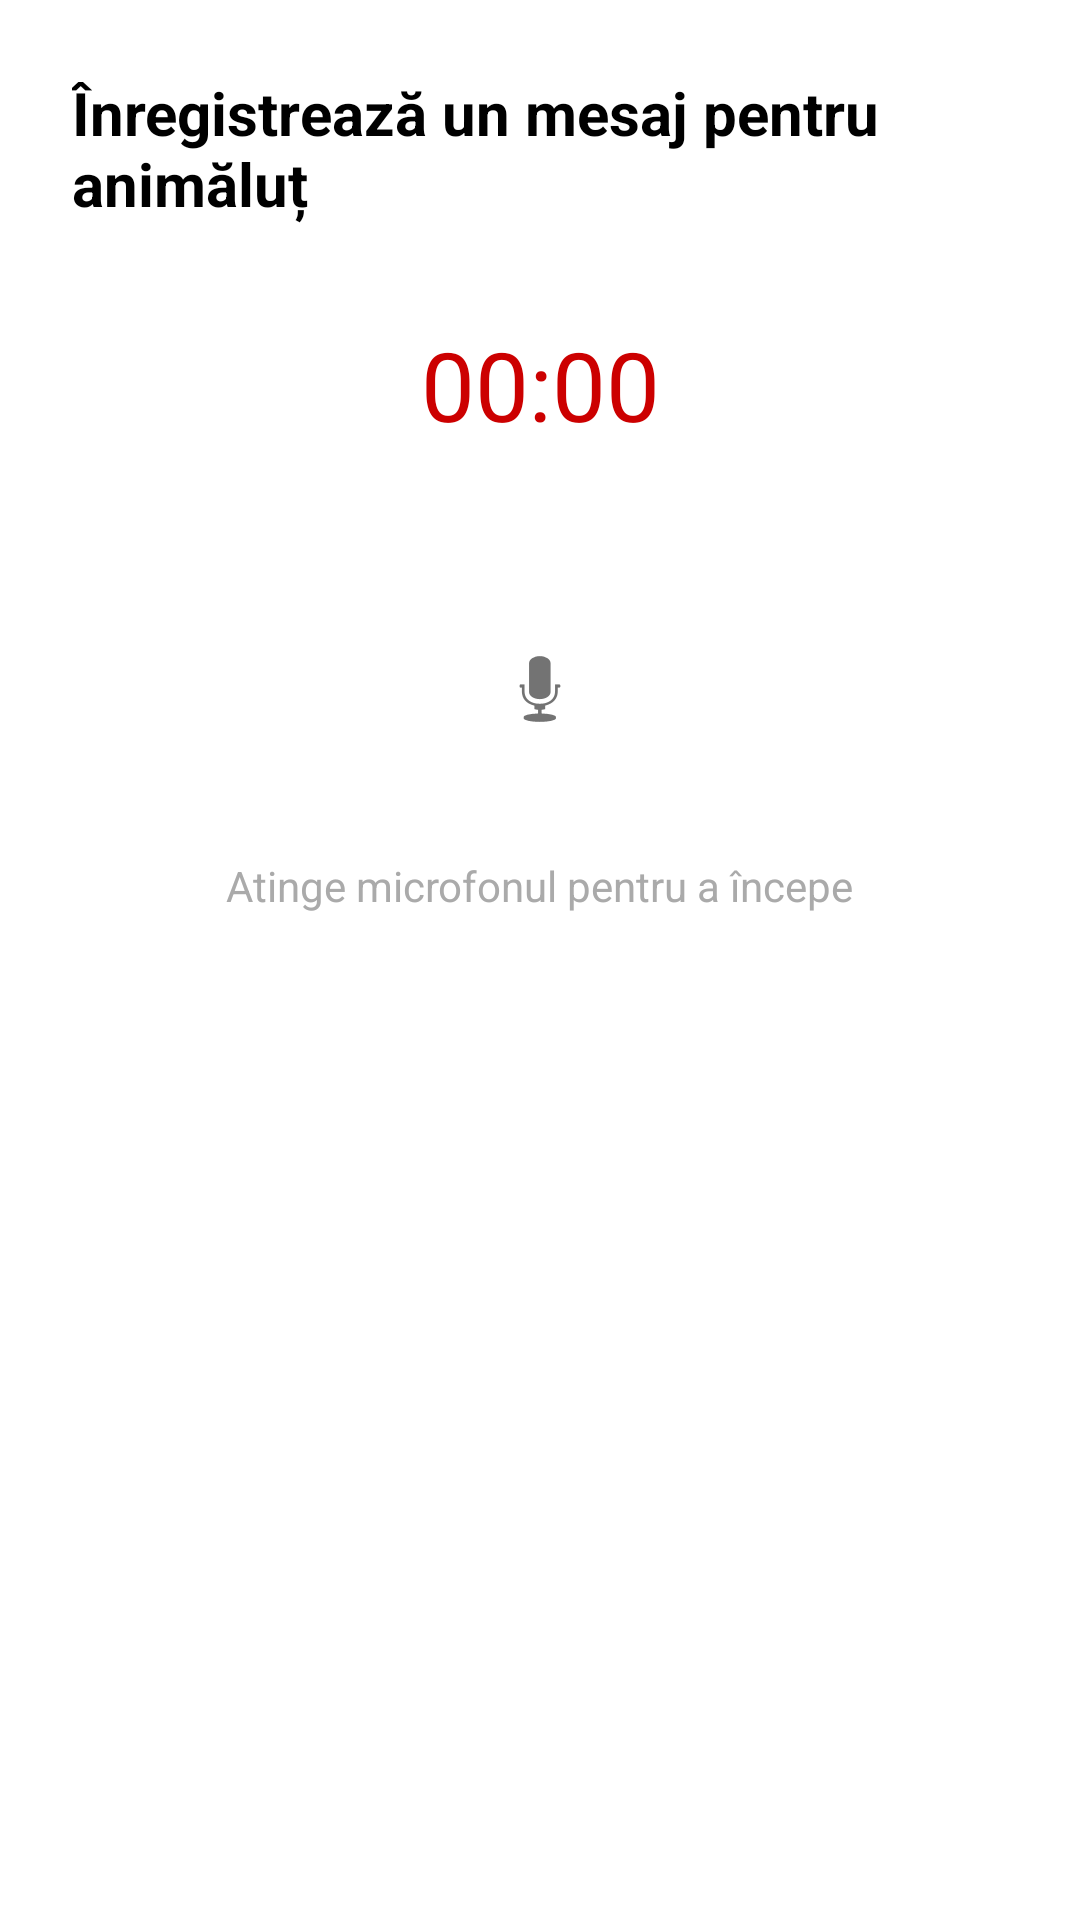

Locate icon controls on the screen. Image size 1080 x 1920, boxes as (x1, y1, x2, y2).
Înregistrează/Pauză: (519, 656, 561, 722)
